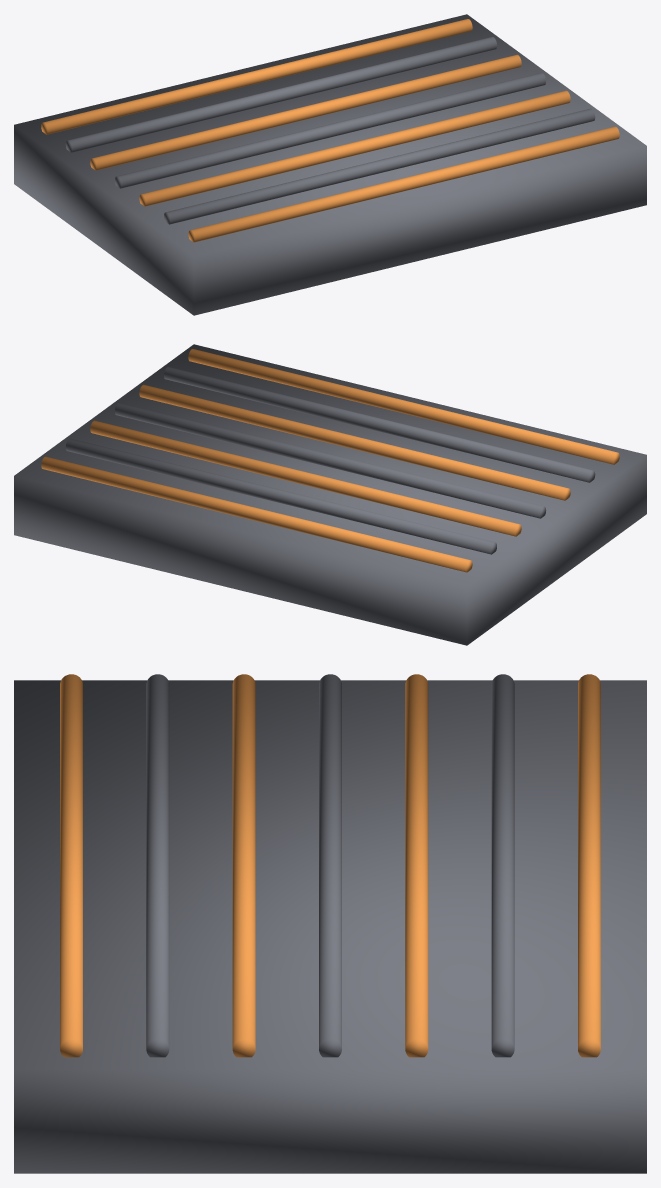
Rendered from grill.glb.
3 renders of one model, top to bottom at view 1: azimuth 30°, elevation 25°; view 2: azimuth 150°, elevation 25°; view 3: azimuth 270°, elevation 25°, orthographic. The views are drawn at different scales.
Visible parts, largest first — view 1: Grill; view 2: Grill; view 3: Grill.
Boxes of the visible parts, left/top/right/bottom form: Grill: left=14, top=14, right=646, bottom=315; Grill: left=14, top=344, right=646, bottom=645; Grill: left=14, top=674, right=646, bottom=1173.
Size of the model in its own units: 3.2 by 0.47 by 2.2.
